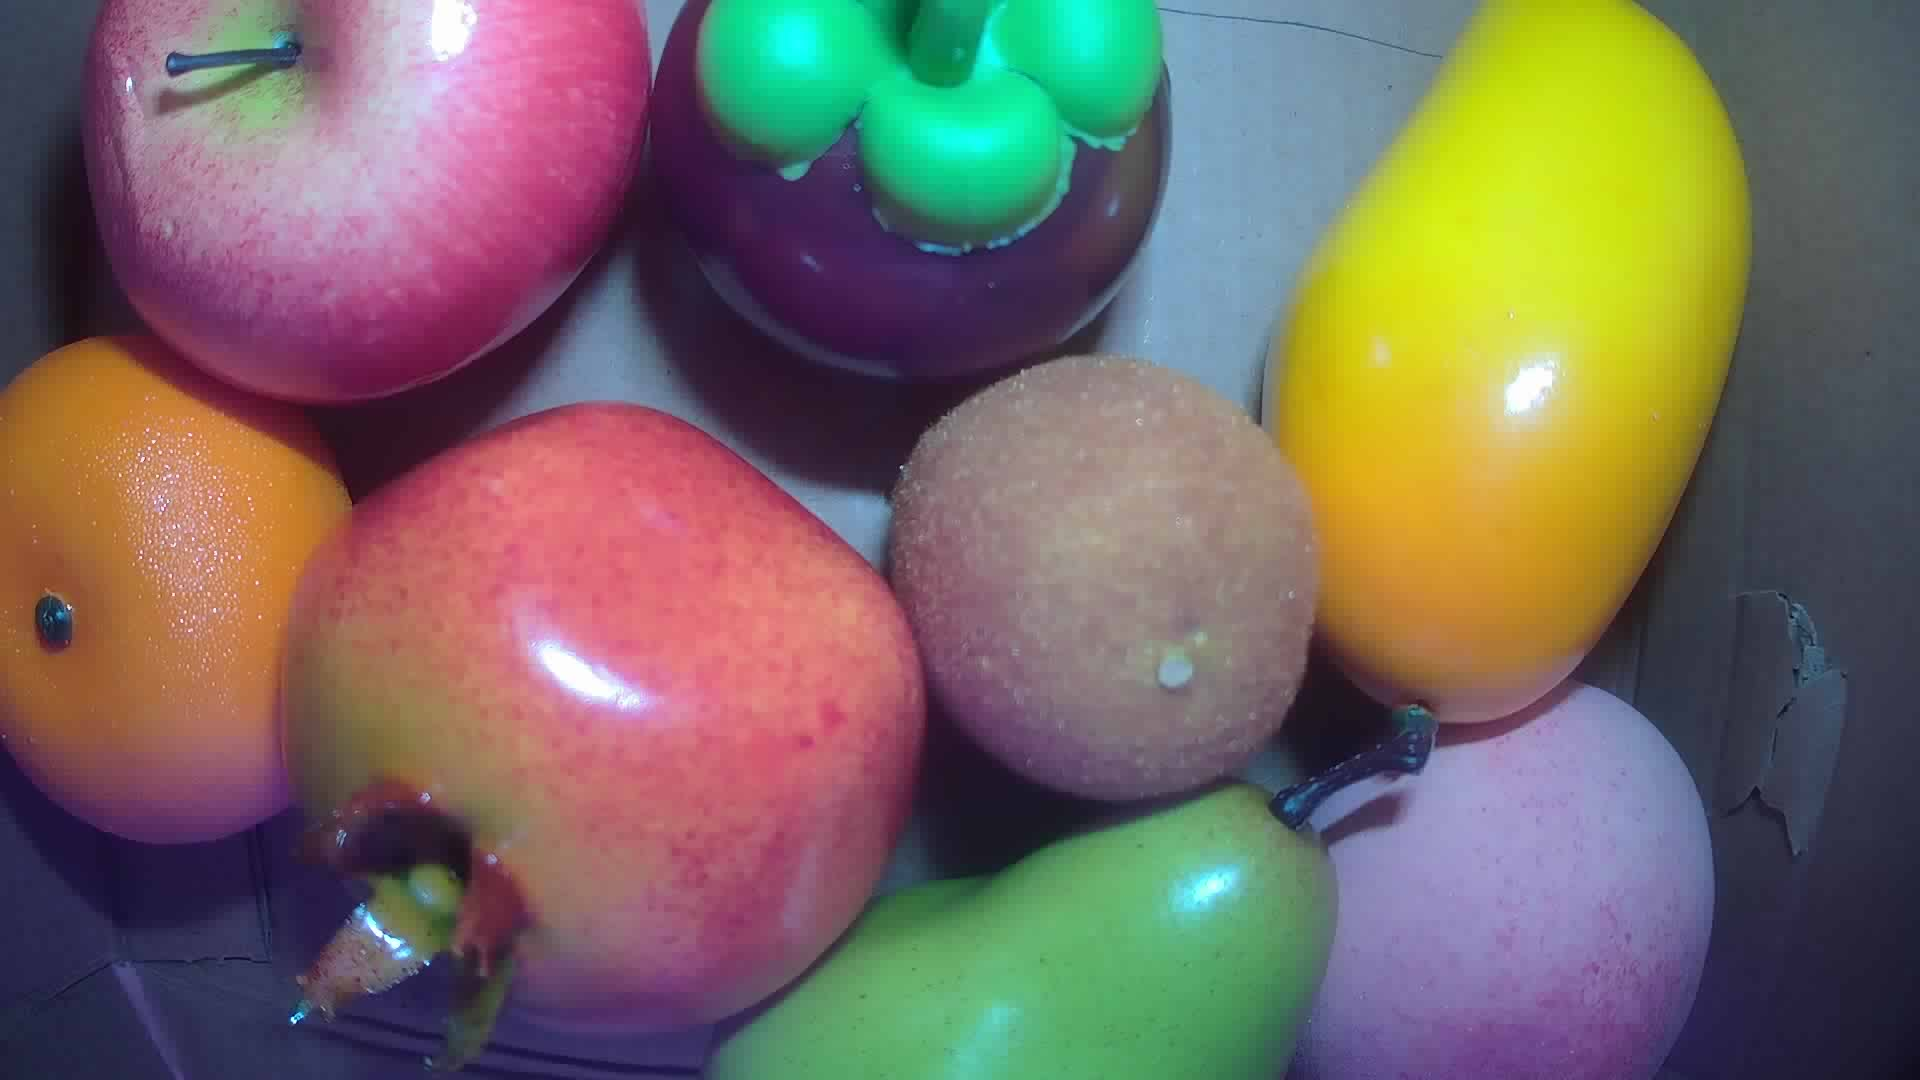apple: (76, 1, 649, 407)
kiwi: (891, 344, 1321, 804)
mango: (1258, 1, 1756, 725)
mangosteen: (644, 1, 1178, 380)
orange: (1, 338, 353, 851)
peach: (1296, 669, 1717, 1080)
pear: (696, 727, 1436, 1080)
pomegranate: (276, 396, 924, 1040)
